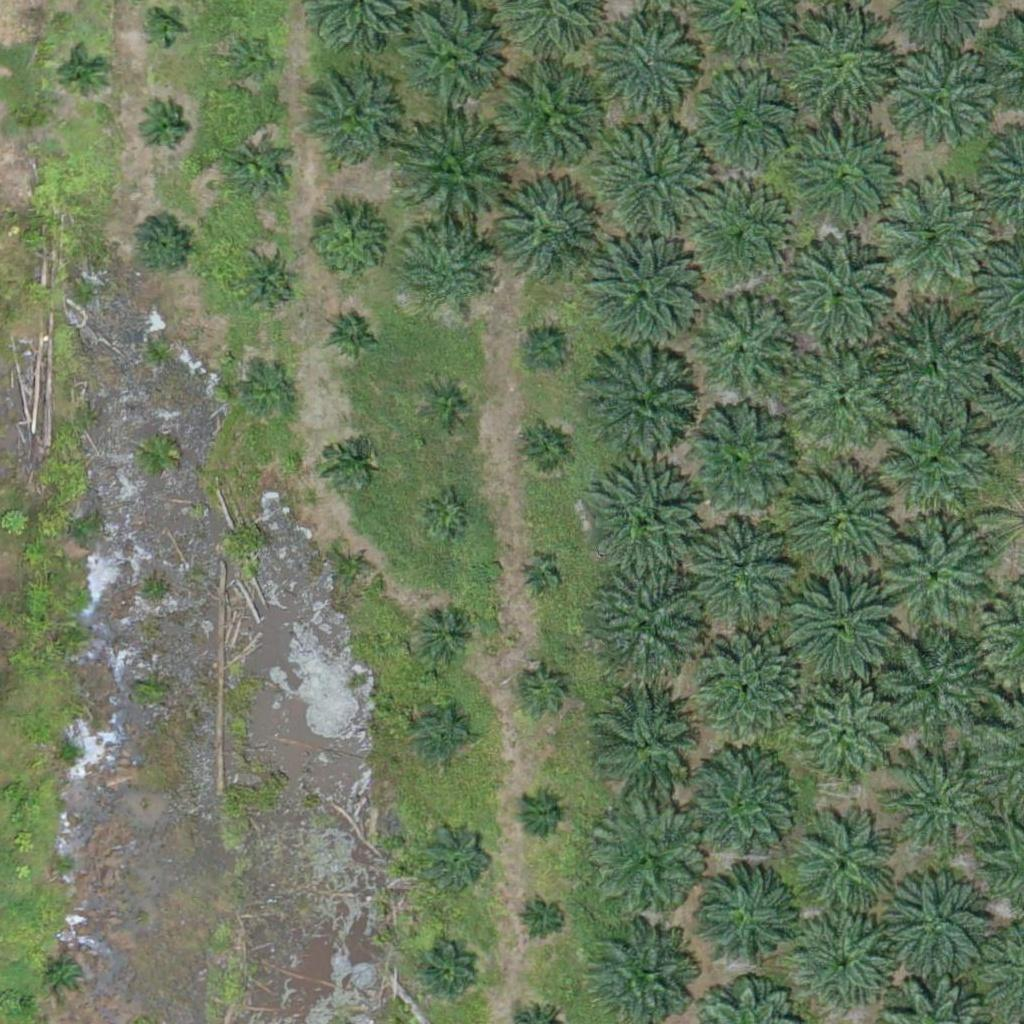Kelapa_Sawit: (776, 8, 901, 134), (786, 118, 911, 244), (771, 226, 896, 352), (600, 120, 713, 234), (593, 806, 706, 920), (486, 176, 599, 289), (590, 465, 703, 578), (591, 567, 704, 680), (591, 682, 704, 795), (678, 176, 791, 289), (787, 337, 900, 450), (874, 630, 987, 743), (882, 522, 995, 635), (878, 405, 991, 518), (872, 307, 985, 420), (683, 751, 796, 864), (492, 64, 604, 178), (400, 120, 512, 234), (396, 4, 508, 118), (878, 176, 990, 290), (887, 50, 999, 163), (588, 242, 700, 355), (588, 354, 700, 467), (685, 403, 797, 516), (692, 288, 804, 401), (790, 461, 902, 574), (786, 568, 898, 681), (882, 746, 994, 859), (691, 81, 791, 182), (603, 21, 703, 122), (701, 634, 801, 735), (697, 520, 797, 621), (798, 688, 898, 789), (887, 871, 987, 972), (795, 820, 895, 921), (300, 77, 400, 177), (796, 913, 896, 1013), (700, 867, 800, 967), (302, 200, 389, 288), (402, 227, 489, 315), (420, 819, 495, 894), (237, 252, 300, 315), (132, 211, 195, 274), (416, 946, 479, 1009), (231, 142, 293, 205), (416, 606, 478, 669), (415, 703, 477, 766), (325, 304, 387, 367), (54, 48, 104, 99), (138, 102, 188, 153), (518, 663, 568, 714), (514, 787, 564, 838), (244, 371, 294, 421), (320, 435, 370, 485), (422, 491, 472, 541), (423, 382, 473, 432), (225, 33, 275, 83), (518, 895, 568, 945), (520, 323, 570, 373), (521, 426, 571, 476), (40, 949, 90, 999), (145, 8, 183, 46), (337, 549, 375, 587), (520, 558, 558, 596)
